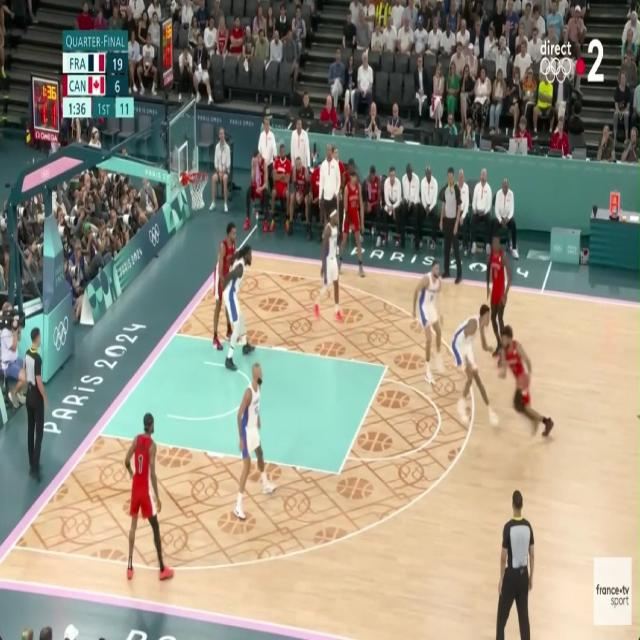ball_handler: (499, 324, 552, 438)
